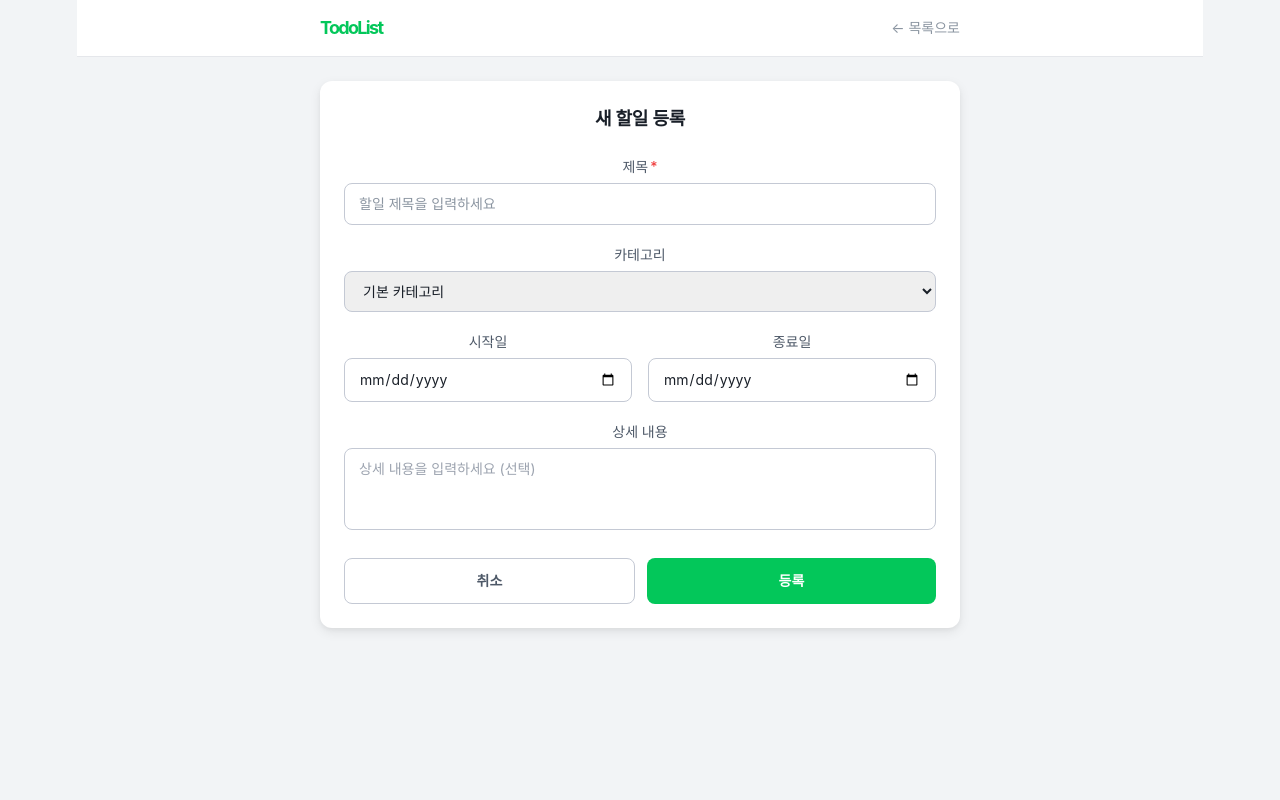
Scenario: TodoFormPage › 등록 모드 (새 할일) › 제목 빈 채로 제출 시 에러 메시지 표시
The image size is (1280, 800).
Expected: the heading "새 할일 등록" is shown, [595, 108, 685, 129]
Click the button "등록": (792, 581) [647, 558, 936, 604]
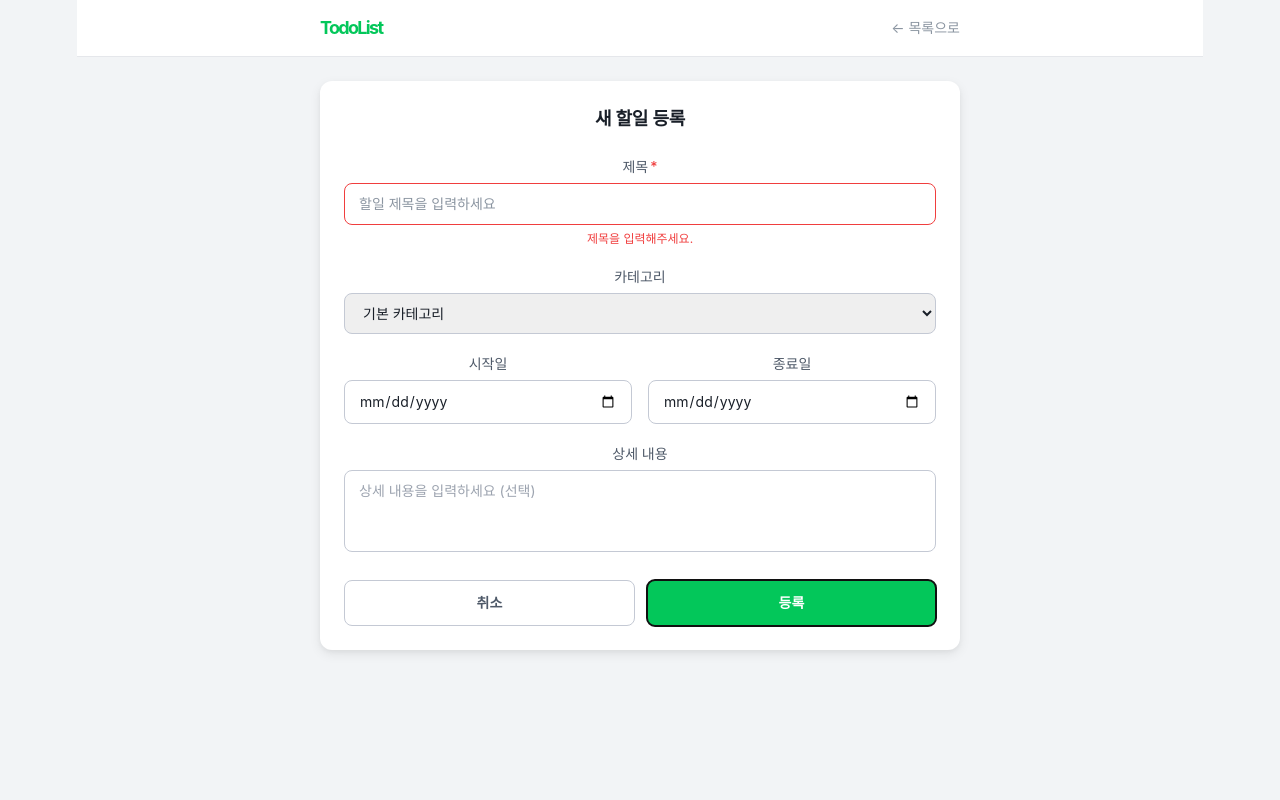
Result: the text "제목을 입력해주세요." is shown at [587, 231, 693, 246]
